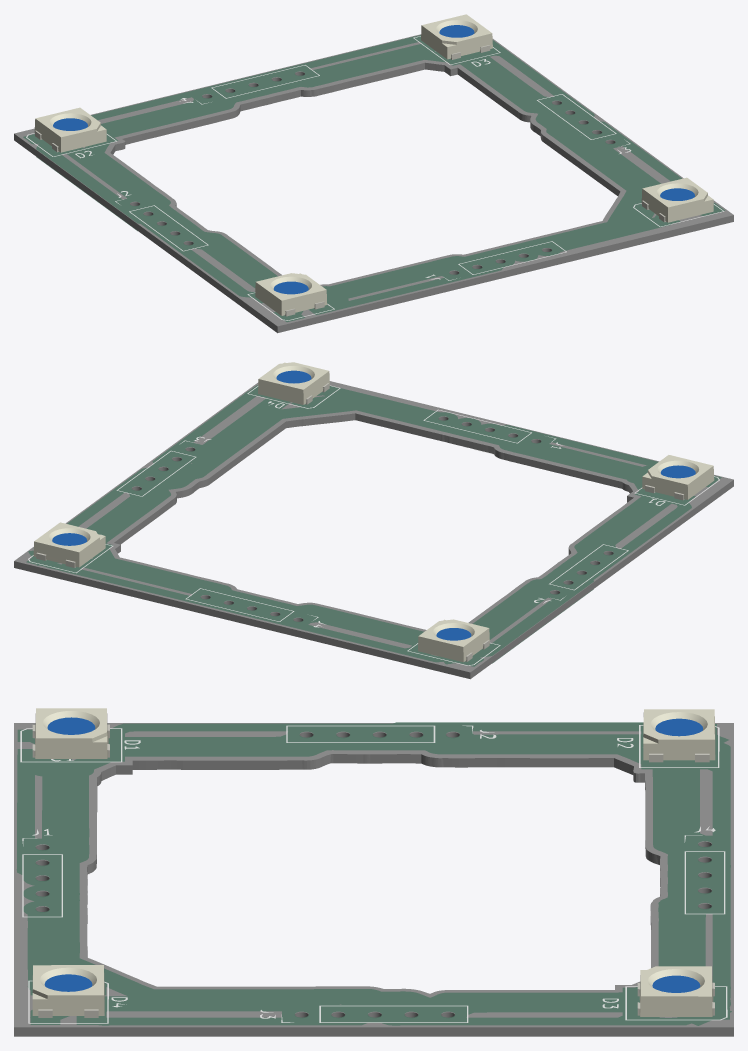
The picture shows the model from 3 angles, top to bottom: view 1: azimuth 30°, elevation 25°; view 2: azimuth 150°, elevation 25°; view 3: azimuth 270°, elevation 25°; orthographic projection. The views are drawn at different scales.
Visible parts, largest first — view 1: =>[0:1:1:5], =>[0:1:1:4], D3, D2, D4, D1, =>[0:1:1:3]; view 2: =>[0:1:1:5], =>[0:1:1:4], D1, D3, D2, D4, =>[0:1:1:3]; view 3: =>[0:1:1:5], =>[0:1:1:4], D1, D2, D3, D4, =>[0:1:1:3].
Boxes of the visible parts, box(x1,y1,x2,y2) form: =>[0:1:1:5]: box(14, 34, 733, 333); =>[0:1:1:4]: box(23, 35, 724, 322); D3: box(421, 14, 492, 59); D2: box(34, 107, 106, 152); D4: box(641, 177, 713, 222); D1: box(255, 273, 327, 316); =>[0:1:1:3]: box(26, 36, 724, 320); =>[0:1:1:5]: box(14, 381, 733, 679); =>[0:1:1:4]: box(26, 385, 721, 666); D1: box(642, 455, 714, 500); D3: box(33, 522, 105, 567); D2: box(418, 619, 489, 662); D4: box(258, 362, 329, 404); =>[0:1:1:3]: box(28, 385, 719, 665); =>[0:1:1:5]: box(14, 723, 733, 1036); =>[0:1:1:4]: box(16, 722, 731, 1025); D1: box(32, 708, 109, 758); D2: box(643, 709, 715, 762); D3: box(637, 966, 714, 1016); D4: box(32, 965, 104, 1017); =>[0:1:1:3]: box(20, 725, 727, 1023).
Size of the model in its own units: 0.05 by 0.00257 by 0.05.
